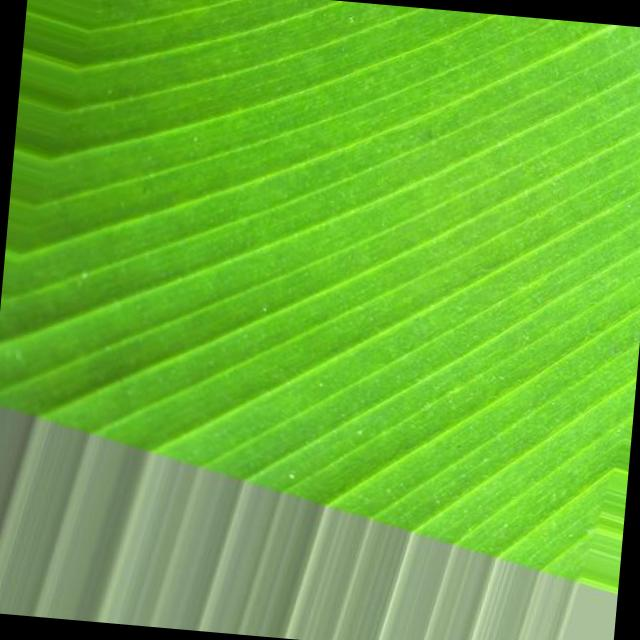Banana_Healthy: (156, 47, 549, 424)
